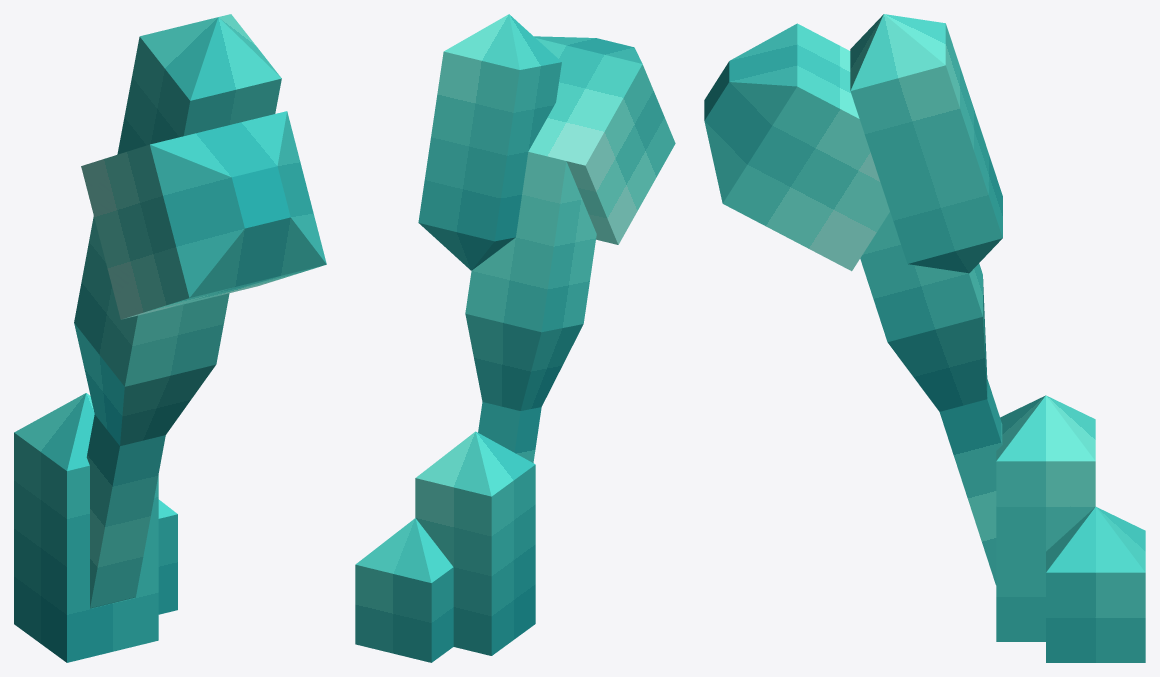
The model's file is leg_ender_front_r.obj.
The picture shows the model from 3 angles, left to right: view 1: azimuth 30°, elevation 25°; view 2: azimuth 150°, elevation 25°; view 3: azimuth 270°, elevation 25°; orthographic projection. The views are drawn at different scales.
Parts seen in each view (by area): view 1: LEG_ENDER_RIGHTFRONT_Cube.005, ELEG_RIGHTFRONT_DECO_DIAMOND_Cube.307; view 2: ELEG_RIGHTFRONT_DECO_DIAMOND_Cube.307, LEG_ENDER_RIGHTFRONT_Cube.005; view 3: ELEG_RIGHTFRONT_DECO_DIAMOND_Cube.307, LEG_ENDER_RIGHTFRONT_Cube.005.
Boxes of the visible parts, bbox=[...] form: LEG_ENDER_RIGHTFRONT_Cube.005: bbox=[74, 111, 326, 608]; ELEG_RIGHTFRONT_DECO_DIAMOND_Cube.307: bbox=[14, 14, 281, 662]; ELEG_RIGHTFRONT_DECO_DIAMOND_Cube.307: bbox=[355, 14, 561, 662]; LEG_ENDER_RIGHTFRONT_Cube.005: bbox=[465, 36, 675, 462]; ELEG_RIGHTFRONT_DECO_DIAMOND_Cube.307: bbox=[850, 14, 1145, 662]; LEG_ENDER_RIGHTFRONT_Cube.005: bbox=[704, 23, 1002, 584].
Size of the model in its own units: 0.2188 by 0.8698 by 0.5538.
